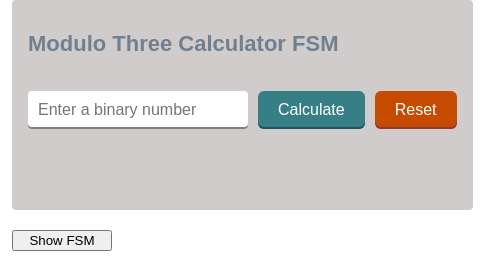
Test case: ModThreeCalculator › displays error for invalid binary input
Type "1234" into the field with placeholder "Enter a binary number" at (138, 110), box [28,92,248,130]
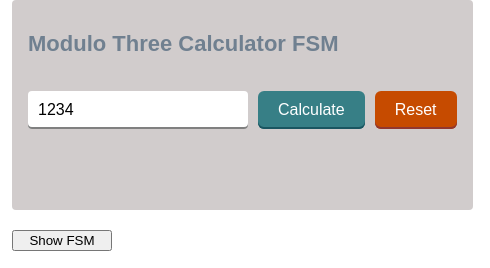
Click the button "Calculate" at (311, 110), box [258,92,365,130]
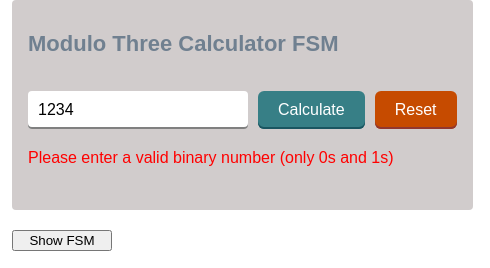
Expected: the text "Please enter a valid binary number (only 0s and 1s)" is shown, [28,150,456,168]
